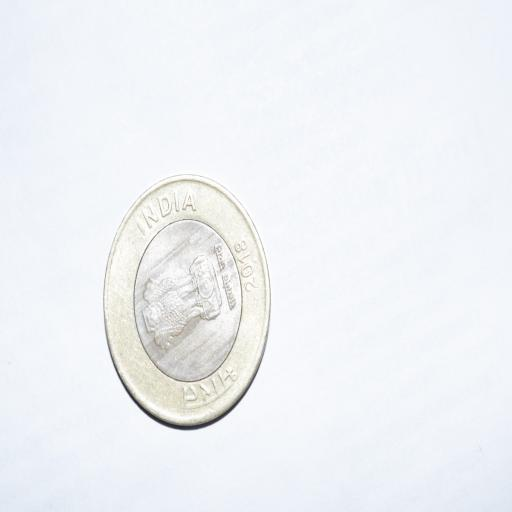rupee10: (103, 174, 272, 426)
